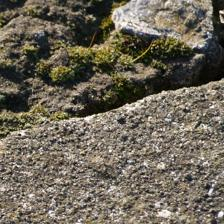Crack: (38, 2, 185, 117)
